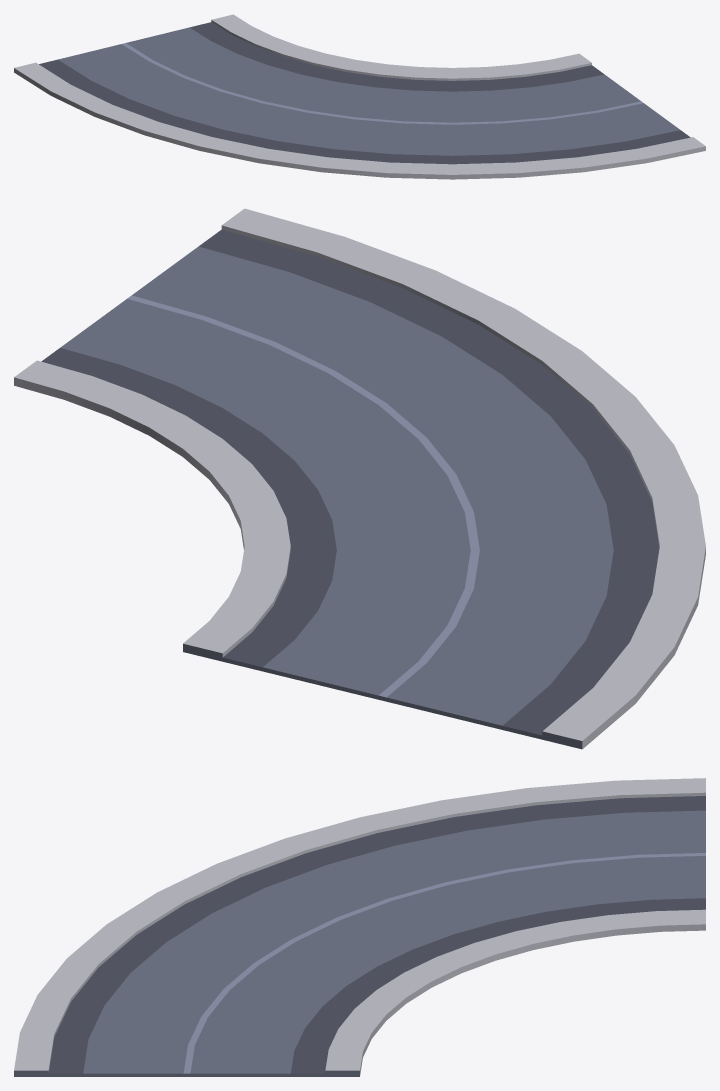
The model's file is Road Curve.glb.
The picture shows the model from 3 angles, top to bottom: view 1: azimuth 30°, elevation 25°; view 2: azimuth 150°, elevation 25°; view 3: azimuth 270°, elevation 25°; orthographic projection. The views are drawn at different scales.
Visible parts, largest first — view 1: road_curve; view 2: road_curve; view 3: road_curve.
Boxes of the visible parts, x1=… form: road_curve: x1=14, y1=14, x2=705, y2=179; road_curve: x1=14, y1=208, x2=705, y2=749; road_curve: x1=14, y1=778, x2=705, y2=1076.
Bounding box in the file's own units: 2 × 0.02 × 2.
